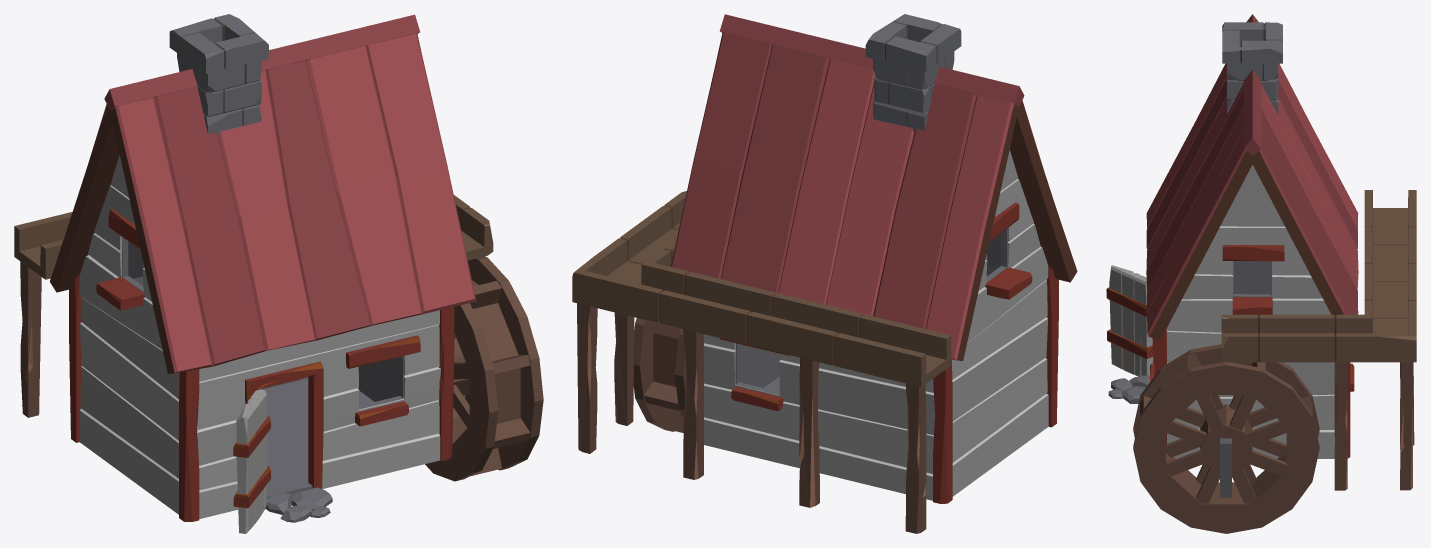
File: Watermill.fbx
The picture shows the model from 3 angles, left to right: view 1: azimuth 30°, elevation 25°; view 2: azimuth 150°, elevation 25°; view 3: azimuth 270°, elevation 25°; orthographic projection. The views are drawn at different scales.
Parts seen in each view (by area): view 1: Watermill; view 2: Watermill; view 3: Watermill.
Part boxes in pixels (x1,y1,x2,y2): Watermill: [14, 14, 543, 533]; Watermill: [572, 14, 1077, 533]; Watermill: [1106, 14, 1416, 533].
Bounding box in the file's own units: 176 × 210 × 149.
